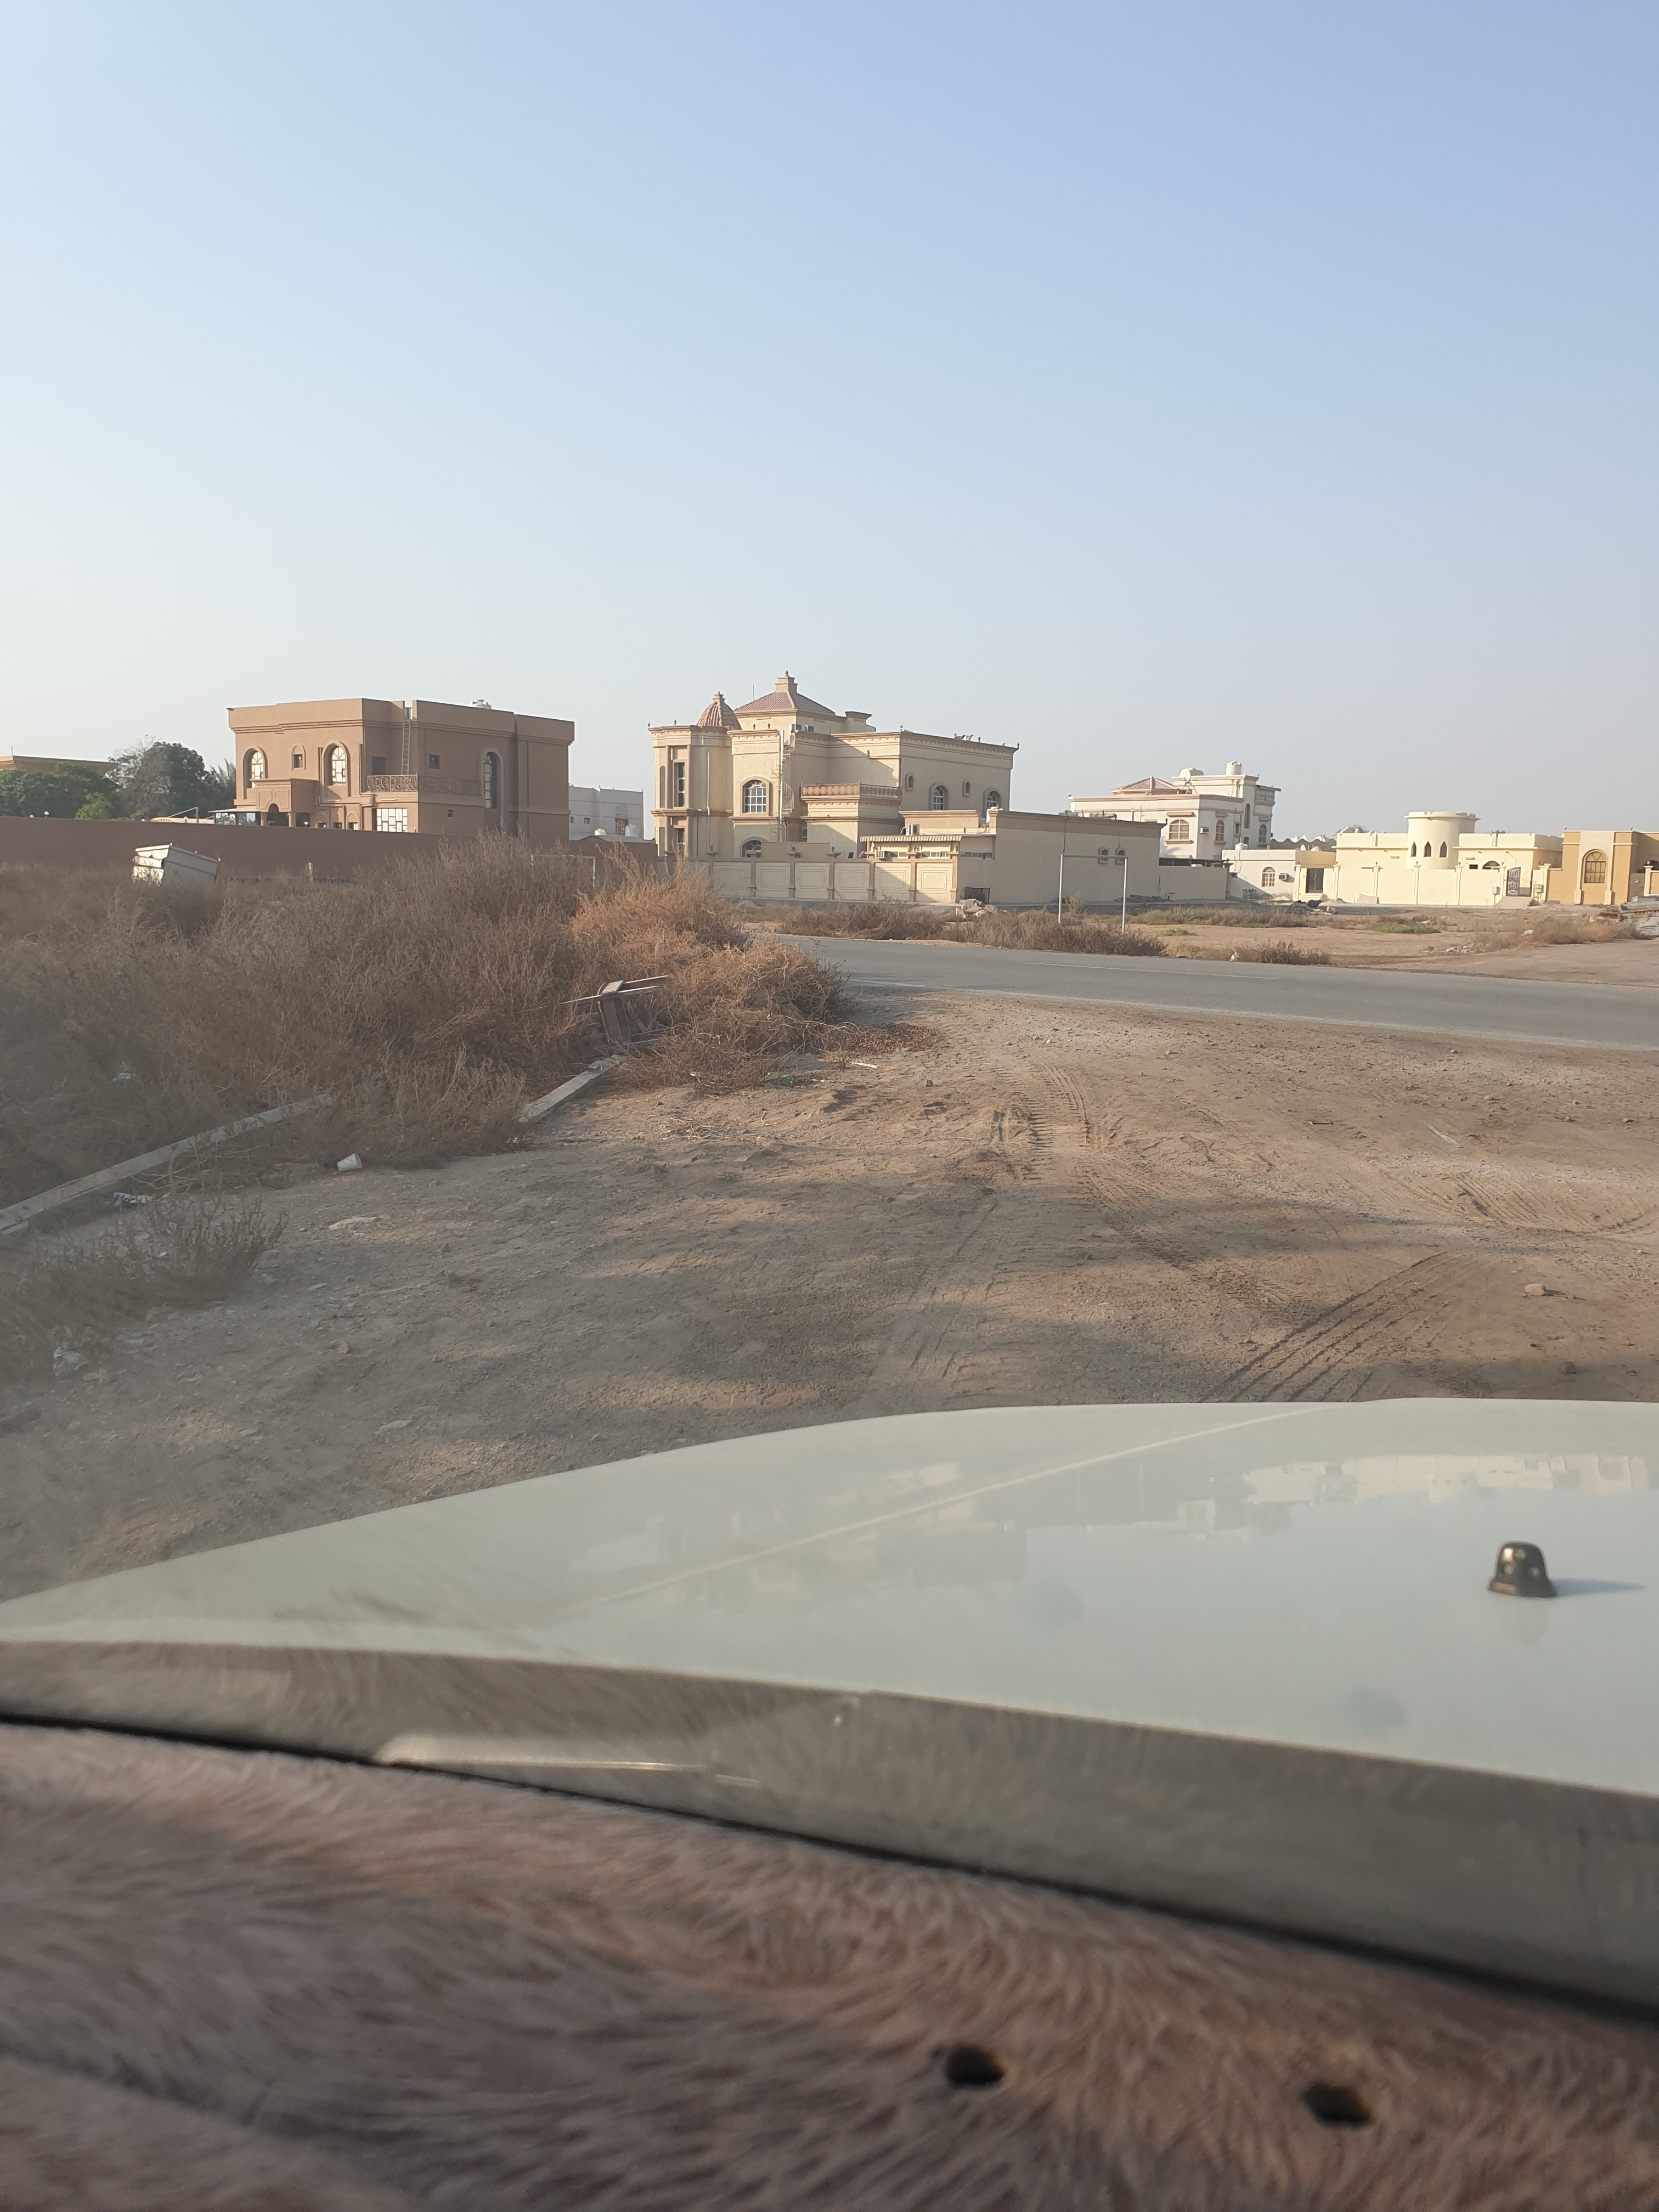uncollected_waste: (552, 986, 709, 1054)
